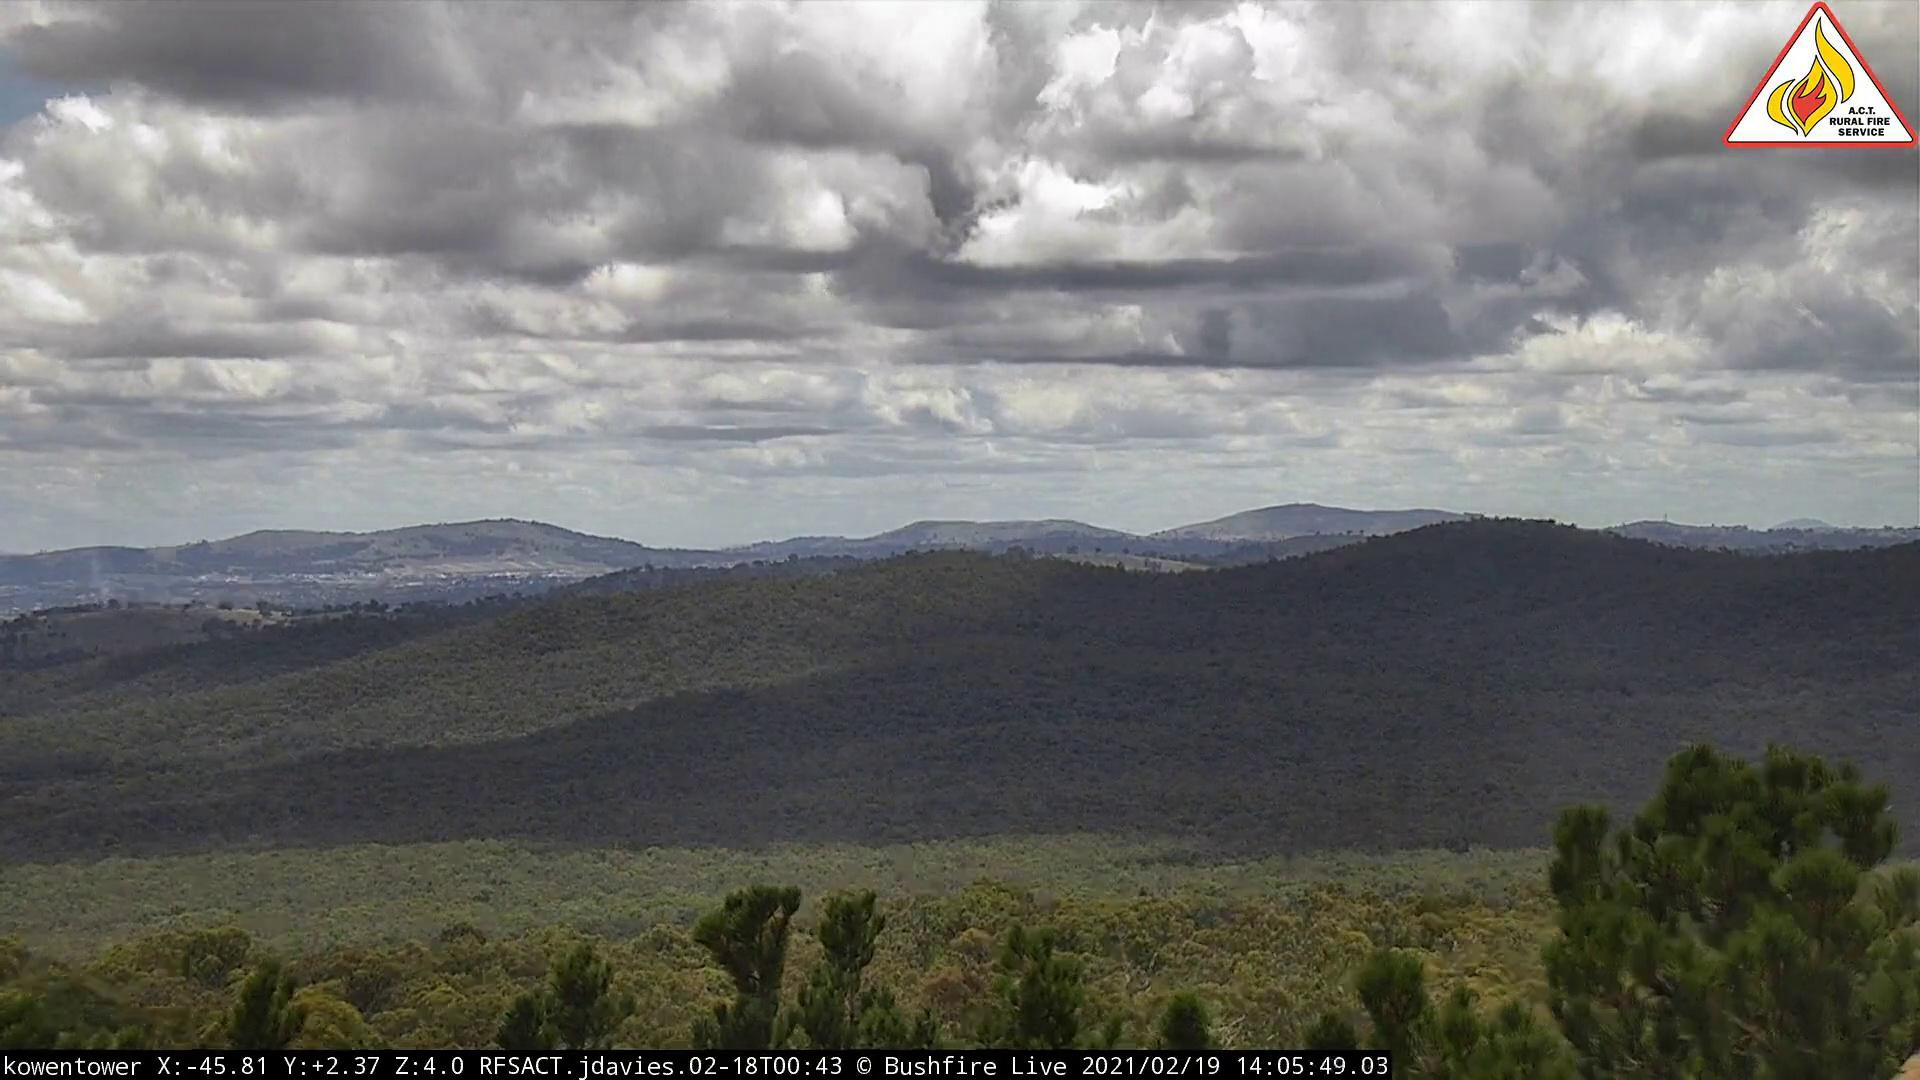Smoke: (95, 579, 132, 616)
